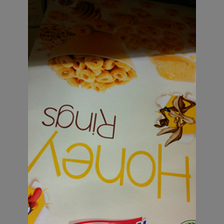cereal: (29, 52, 196, 224)
